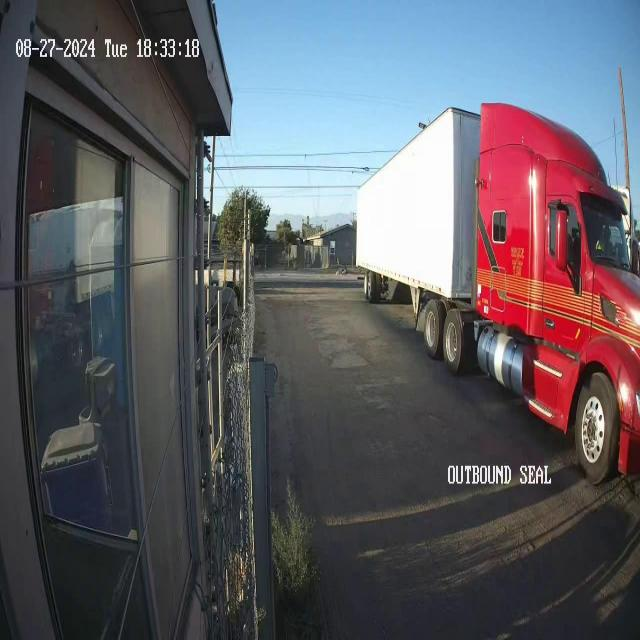TRUCK_CONTAINER: (355, 100, 639, 486)
